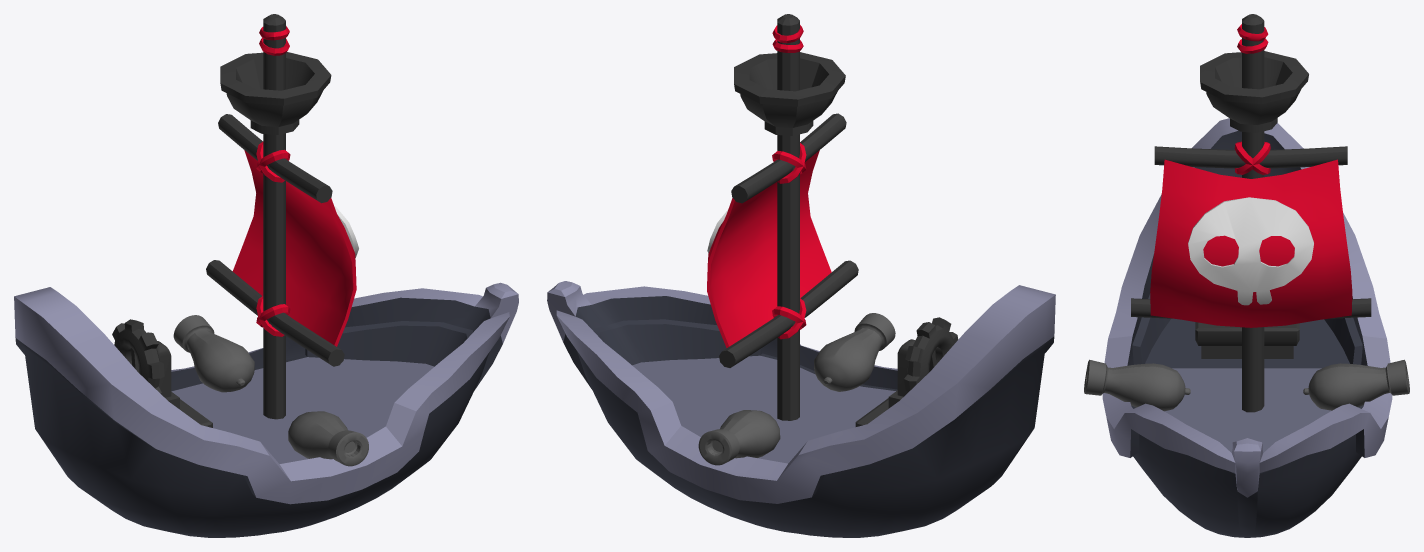
The model's file is nave nemica rossa corretta.fbx.
3 views of the same model, side by side, from view 1: azimuth 30°, elevation 25°; view 2: azimuth 150°, elevation 25°; view 3: azimuth 270°, elevation 25° (orthographic). The views are drawn at different scales.
Parts seen in each view (by area): view 1: nave nemica.016; view 2: nave nemica.016; view 3: nave nemica.016.
Part boxes in pixels (bbox=[...]): nave nemica.016: bbox=[14, 14, 518, 537]; nave nemica.016: bbox=[547, 14, 1055, 537]; nave nemica.016: bbox=[1084, 14, 1409, 537].
Bounding box in the file's own units: 1323 × 1275 × 776.
